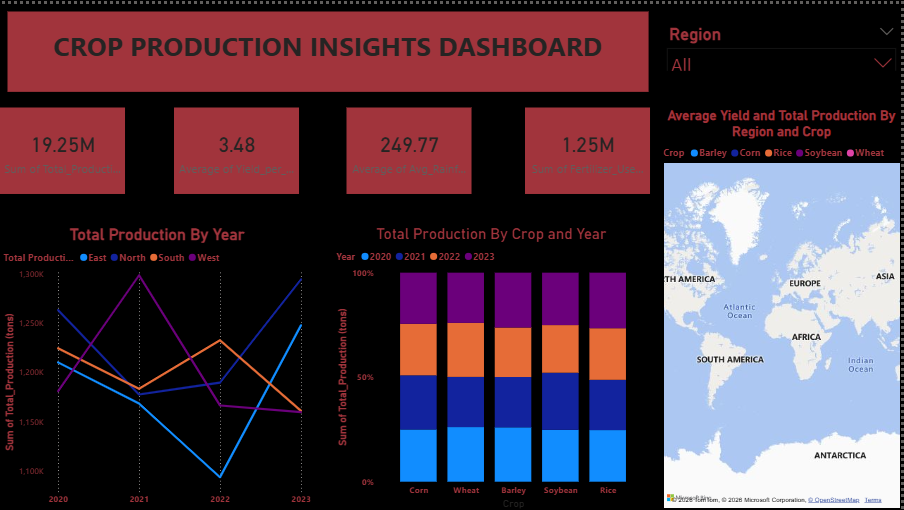

The page's visual inventory and layout, read from the dashboard file:
{"tool":"powerbi","page":{"name":"Page 1","canvas":[1280,720],"ordinal":0},"visuals":[{"type":"card","fields":{"Values":["Sum(Agriculture_Production_Insights.Total_Production (tons))"]},"box":[0,147.4,177.2,122.6],"z":0},{"type":"card","fields":{"Values":["Avg(Agriculture_Production_Insights.Yield_per_ha (tons))"]},"box":[246.8,147.4,177.2,122.6],"z":1000},{"type":"card","fields":{"Values":["Avg(Agriculture_Production_Insights.Avg_Rainfall_mm)"]},"box":[492,147.4,177.2,122.6],"z":2000},{"type":"card","fields":{"Values":["Sum(Agriculture_Production_Insights.Fertilizer_Used_kg)"]},"box":[743.8,147.4,177.2,122.6],"z":3000},{"type":"lineChart","title":"Total Production By Year","fields":{"Y":["Sum(Agriculture_Production_Insights.Total_Production (tons))"],"Category":["Agriculture_Production_Insights.Year"],"Series":["Agriculture_Production_Insights.Region"]},"box":[0,313.1,445.6,407.5],"z":4000},{"type":"hundredPercentStackedColumnChart","title":"Total Production By Crop and Year","fields":{"Category":["Agriculture_Production_Insights.Crop"],"Y":["Sum(Agriculture_Production_Insights.Total_Production (tons))"],"Series":["Agriculture_Production_Insights.Year"]},"box":[472.1,313.1,448.9,407.5],"z":5000},{"type":"filledMap","title":"Average Yield and Total Production By Region and Crop","fields":{"Category":["Agriculture_Production_Insights.Region"],"Series":["Agriculture_Production_Insights.Crop"]},"box":[935.9,147.4,344.5,573.1],"z":6000},{"type":"slicer","fields":{"Values":["Agriculture_Production_Insights.Region"]},"box":[935.9,23.2,344.5,71.2],"z":6001},{"type":"textbox","box":[11.6,11.6,909.4,114.3],"z":6002}]}

Visuals, with their boxes in screenshot pixels (x1, y1, x2, y2), scaled from the page's 1280x720 canvas onto the 904x510 screenshot:
card - Sum(Agriculture_Production_Insights.Total_Production (tons)): {"x1": 0, "y1": 104, "x2": 125, "y2": 191}
card - Avg(Agriculture_Production_Insights.Yield_per_ha (tons)): {"x1": 174, "y1": 104, "x2": 299, "y2": 191}
card - Avg(Agriculture_Production_Insights.Avg_Rainfall_mm): {"x1": 347, "y1": 104, "x2": 473, "y2": 191}
card - Sum(Agriculture_Production_Insights.Fertilizer_Used_kg): {"x1": 525, "y1": 104, "x2": 650, "y2": 191}
"Total Production By Year" lineChart: {"x1": 0, "y1": 222, "x2": 315, "y2": 509}
"Total Production By Crop and Year" hundredPercentStackedColumnChart: {"x1": 333, "y1": 222, "x2": 650, "y2": 509}
"Average Yield and Total Production By Region and Crop" filledMap: {"x1": 661, "y1": 104, "x2": 903, "y2": 509}
slicer - Agriculture_Production_Insights.Region: {"x1": 661, "y1": 16, "x2": 903, "y2": 67}
textbox: {"x1": 8, "y1": 8, "x2": 650, "y2": 89}
